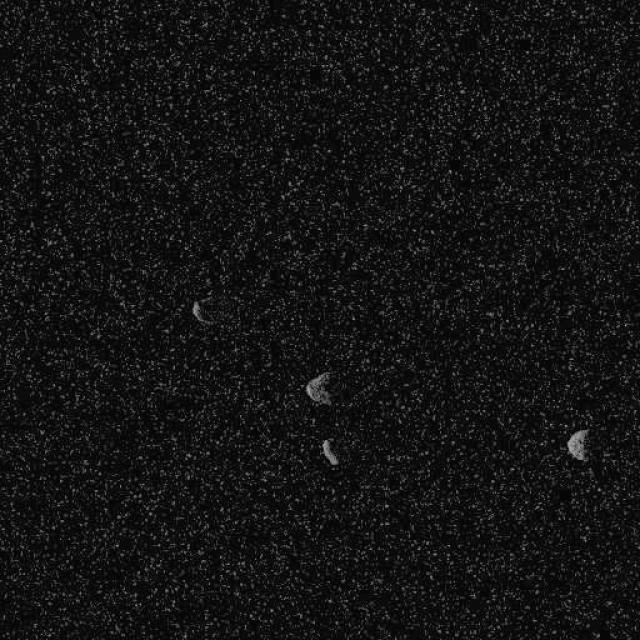D2: (304, 370, 340, 406), (565, 428, 589, 462), (190, 297, 214, 325), (320, 438, 339, 467)
